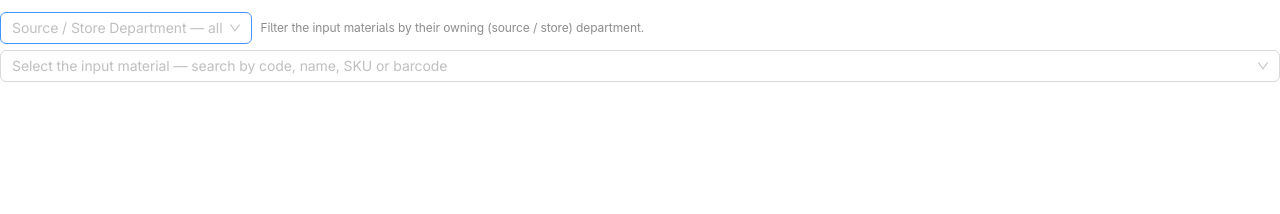
it: TASK #34C — Item Master Production Input selector › G: the current item cannot be selected as its own input
Press the mouse on the dropdown named "Input Material Select" at (631, 66), box [12,51,1250,81]
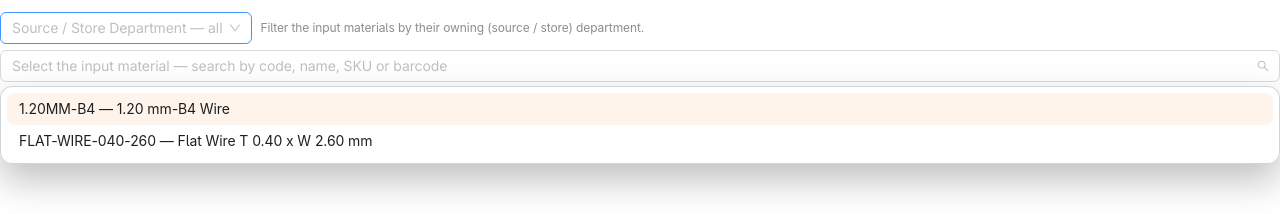
Check: the text "1.20MM-B4 — 1.20 mm-B4 Wire" is shown, box [19,100,230,117]
